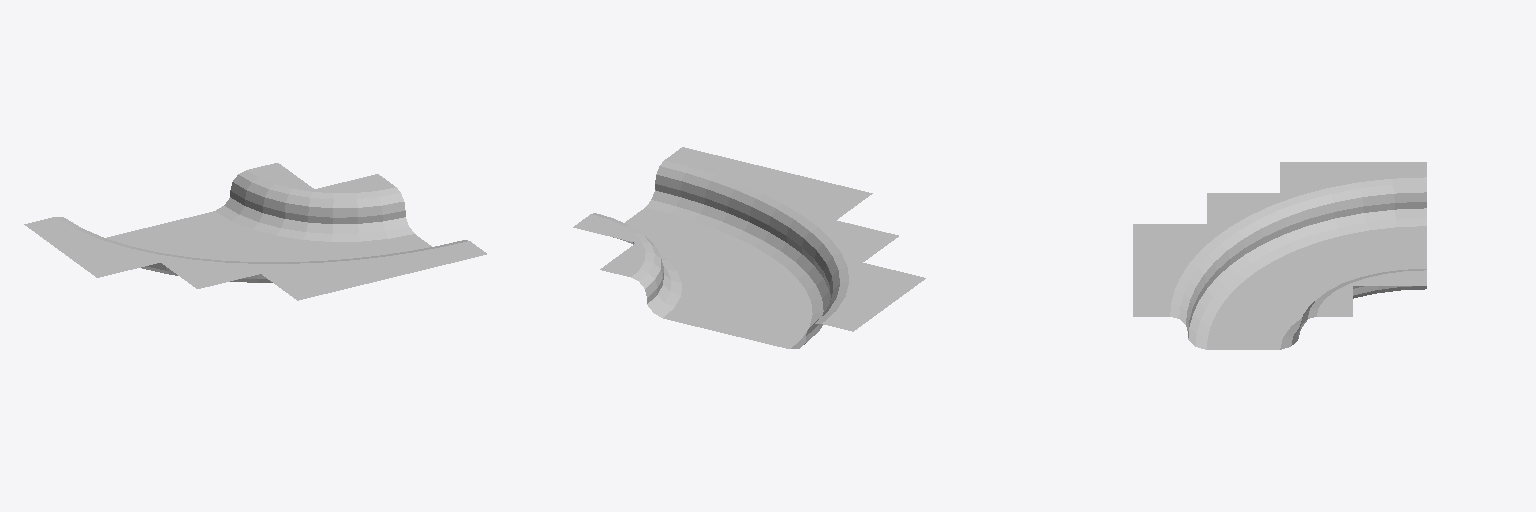
The model's file is Track_Standard_Curve_Widening_4x5.obj.
The picture shows the model from 3 angles: view 1: azimuth 30°, elevation 25°; view 2: azimuth 150°, elevation 25°; view 3: azimuth 270°, elevation 25°; orthographic projection.
Visible parts, largest first — view 1: Grass, Dirt; view 2: Grass, Dirt; view 3: Grass, Dirt.
Part boxes in pixels (x1,y1,x2,y2): Grass: (24,163,486,300); Dirt: (106,197,431,282); Grass: (573,147,925,342); Dirt: (613,190,829,348); Grass: (1133,162,1426,338); Dirt: (1188,208,1426,349).
Size of the model in its own units: 5 by 0.5 by 4.